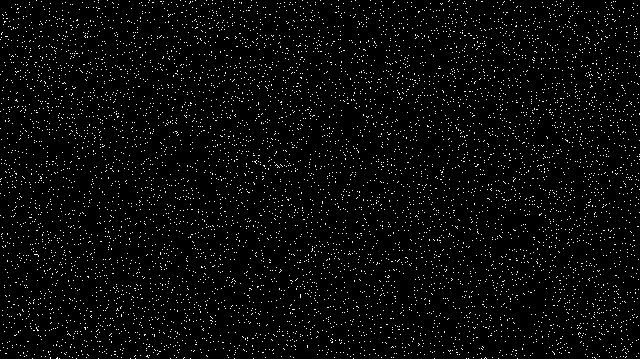pot: (341, 170, 477, 307)
